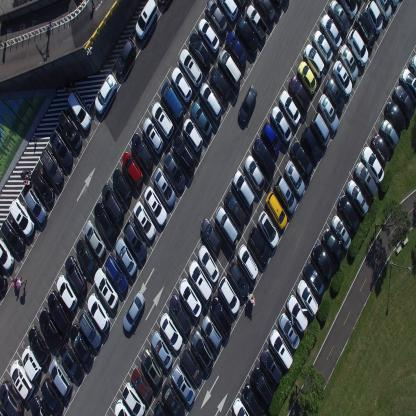car: (9, 358, 35, 401), (38, 307, 63, 351), (122, 220, 148, 262), (47, 290, 71, 334), (94, 266, 119, 308), (171, 364, 196, 406), (58, 108, 82, 151), (160, 80, 184, 123), (48, 356, 73, 397), (122, 289, 145, 333), (69, 322, 92, 366), (143, 184, 167, 226), (269, 328, 293, 370), (188, 259, 212, 301), (9, 197, 34, 237), (354, 160, 379, 200), (169, 292, 192, 335), (235, 13, 258, 56), (134, 0, 158, 41), (93, 201, 117, 242), (290, 139, 314, 180), (178, 277, 202, 318), (67, 90, 91, 131), (60, 342, 84, 383), (101, 182, 124, 224), (153, 166, 176, 208), (191, 328, 214, 370), (64, 254, 87, 296), (114, 237, 138, 277), (49, 128, 73, 168), (40, 146, 64, 186), (78, 310, 102, 350), (179, 48, 203, 88), (93, 74, 116, 115), (274, 173, 297, 214), (87, 292, 110, 333), (30, 167, 55, 204), (286, 292, 308, 334), (130, 132, 153, 172), (105, 252, 128, 292), (133, 200, 156, 240), (151, 100, 174, 140), (252, 136, 275, 176), (75, 236, 98, 276), (199, 81, 222, 121), (40, 378, 64, 416), (218, 49, 242, 87), (163, 150, 185, 191), (216, 205, 238, 246), (338, 192, 360, 233), (312, 241, 334, 282), (0, 379, 25, 415), (121, 149, 144, 188), (130, 364, 153, 403), (232, 170, 255, 209), (188, 32, 212, 69), (84, 218, 106, 258), (265, 190, 287, 230), (210, 295, 232, 335), (151, 330, 173, 370), (28, 325, 50, 365), (141, 347, 163, 387), (218, 276, 240, 316), (227, 258, 249, 298), (362, 144, 384, 184), (346, 179, 368, 219), (304, 260, 326, 300), (251, 364, 273, 404), (142, 117, 165, 155), (278, 89, 301, 127), (24, 186, 47, 224), (197, 17, 220, 55), (270, 104, 292, 143), (160, 312, 182, 351), (173, 134, 195, 173), (243, 154, 265, 193), (318, 93, 340, 132), (296, 278, 318, 317), (260, 347, 282, 386), (1, 219, 25, 254), (238, 83, 258, 125), (198, 244, 219, 284), (115, 37, 137, 75), (180, 346, 202, 384), (284, 159, 306, 197), (56, 274, 78, 312), (190, 102, 212, 140), (224, 189, 246, 227), (320, 13, 342, 51), (354, 11, 376, 49), (330, 214, 352, 252), (224, 31, 247, 67), (209, 66, 232, 102), (161, 381, 185, 415), (278, 312, 300, 349), (21, 344, 43, 381), (170, 66, 192, 103), (200, 216, 222, 253), (393, 83, 415, 120), (258, 209, 278, 249), (249, 226, 270, 264), (201, 314, 223, 350), (302, 43, 324, 79), (246, 4, 268, 40), (322, 228, 344, 264), (241, 382, 265, 415), (338, 43, 358, 82), (237, 244, 258, 281), (205, 0, 227, 35), (301, 125, 321, 163), (324, 76, 344, 114), (348, 28, 368, 66), (122, 382, 145, 415), (289, 76, 310, 112), (182, 116, 203, 152), (112, 167, 132, 204), (329, 0, 350, 35), (261, 120, 281, 156), (332, 60, 352, 96), (310, 112, 330, 147), (385, 99, 406, 132), (398, 66, 416, 104), (312, 29, 332, 63), (298, 60, 317, 95), (364, 0, 383, 34), (378, 118, 398, 150), (372, 132, 390, 165), (0, 236, 15, 270), (255, 0, 277, 23), (217, 0, 238, 22), (30, 395, 51, 415), (374, 0, 392, 23), (338, 0, 358, 19), (113, 397, 134, 415), (232, 397, 250, 415), (153, 400, 170, 415), (0, 272, 8, 292), (410, 52, 415, 78), (268, 0, 284, 8), (389, 0, 400, 11), (234, 0, 248, 8), (157, 0, 169, 5)
